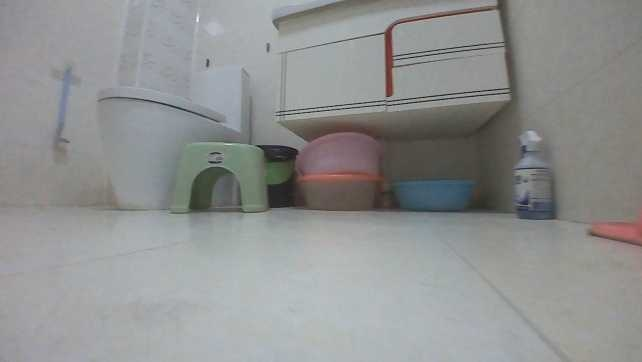plastic_stool: (166, 140, 271, 215)
toilet: (95, 65, 256, 214)
trash_can: (256, 142, 298, 210)
washstand: (271, 0, 514, 140)
